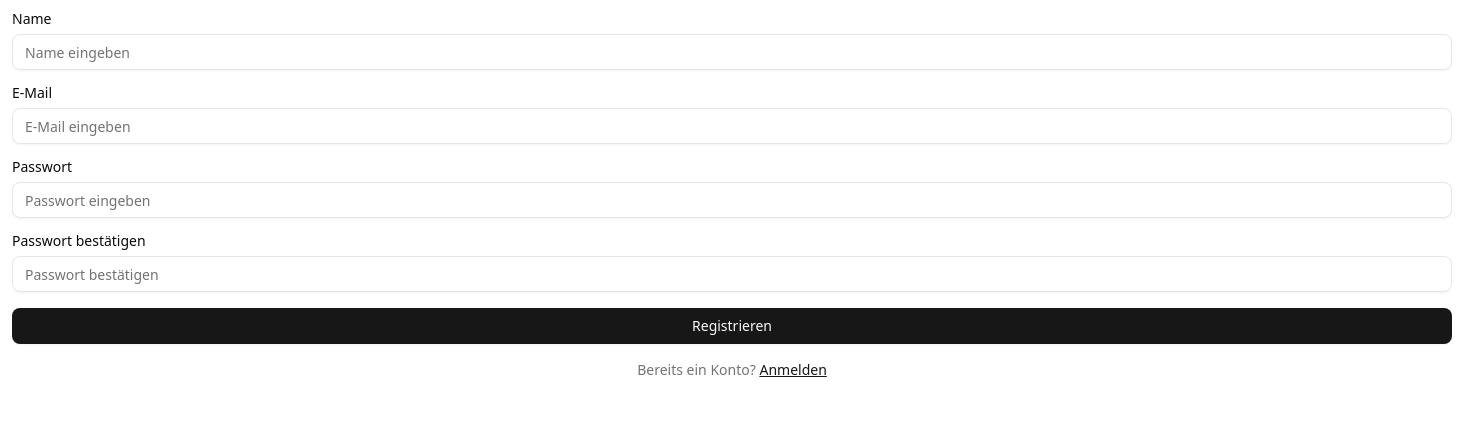
Test: RegisterForm › shows error when submitting empty form
Click the button "Registrieren".
click(732, 326)  # box [12,308,1452,344]
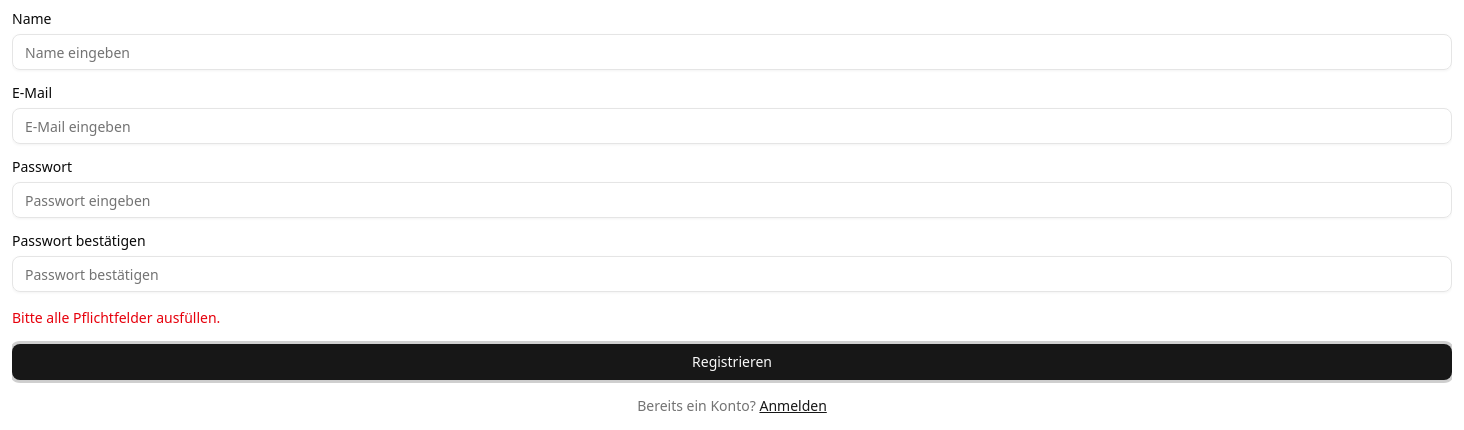
Expected: the text "Bitte alle Pflichtfelder ausfüllen." is shown, [12,308,220,327]
